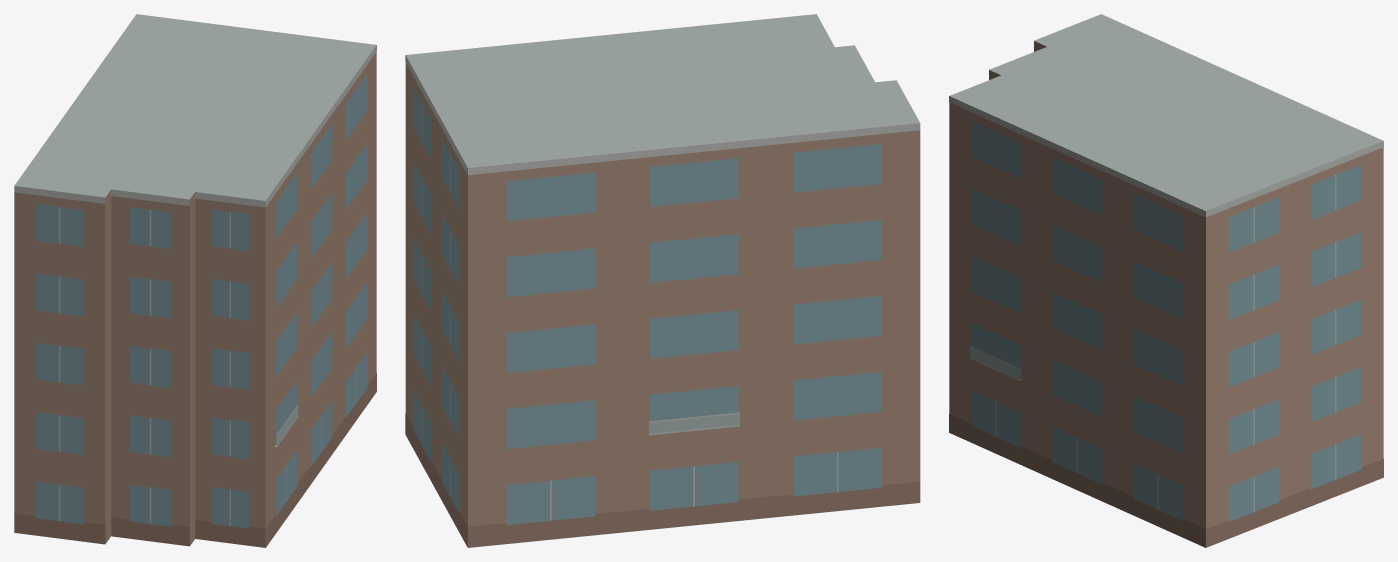
File: survey-upis-32665321.glb
3 renders of one model, left to right at view 1: azimuth 30°, elevation 25°; view 2: azimuth 150°, elevation 25°; view 3: azimuth 270°, elevation 25°, orthographic. The views are drawn at different scales.
Parts seen in each view (by area): view 1: survey-upis-32665321.tmp; view 2: survey-upis-32665321.tmp; view 3: survey-upis-32665321.tmp.
Part boxes in pixels (<box>): survey-upis-32665321.tmp: <box>14,14,376,547</box>; survey-upis-32665321.tmp: <box>405,14,920,547</box>; survey-upis-32665321.tmp: <box>949,14,1383,547</box>.
Size of the model in its own units: 16.34 by 13 by 15.22.
